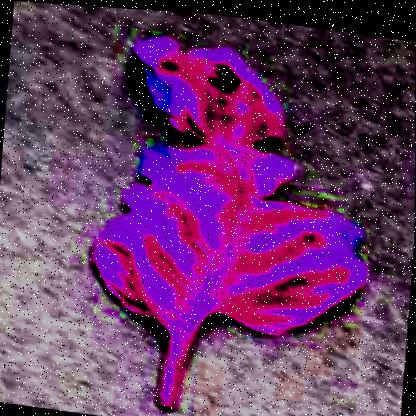Virus: (74, 22, 385, 415)
